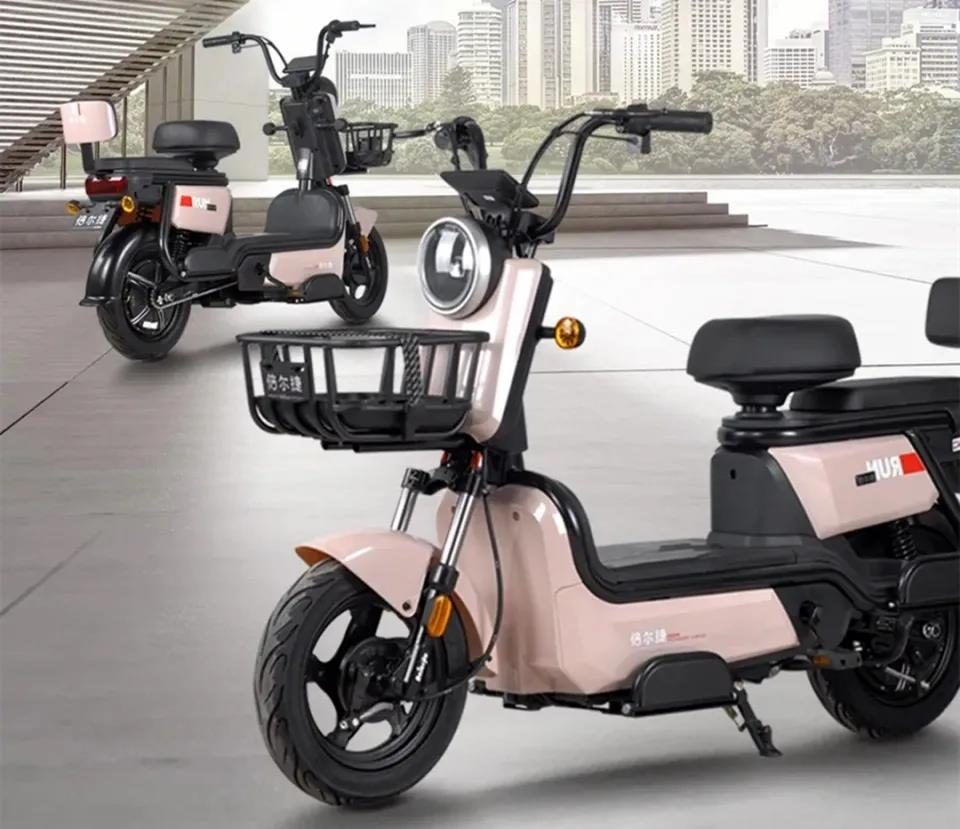MNV: (252, 108, 960, 806), (58, 21, 391, 361)
